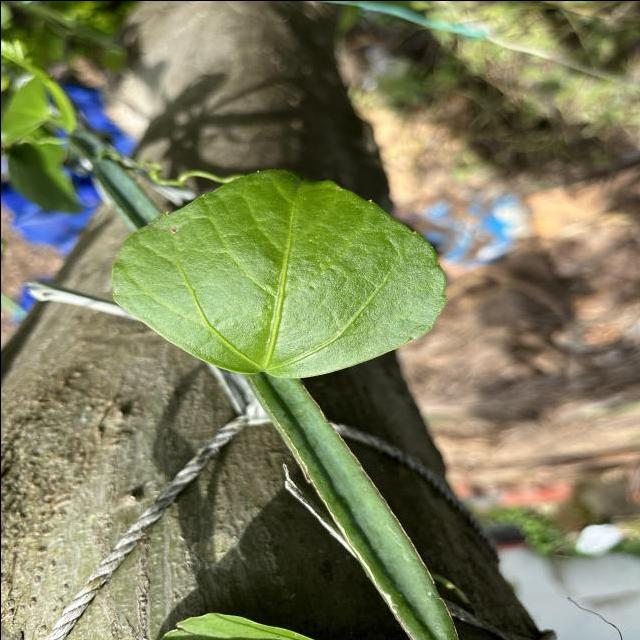Cissus quadrangularis: (105, 163, 455, 384)
